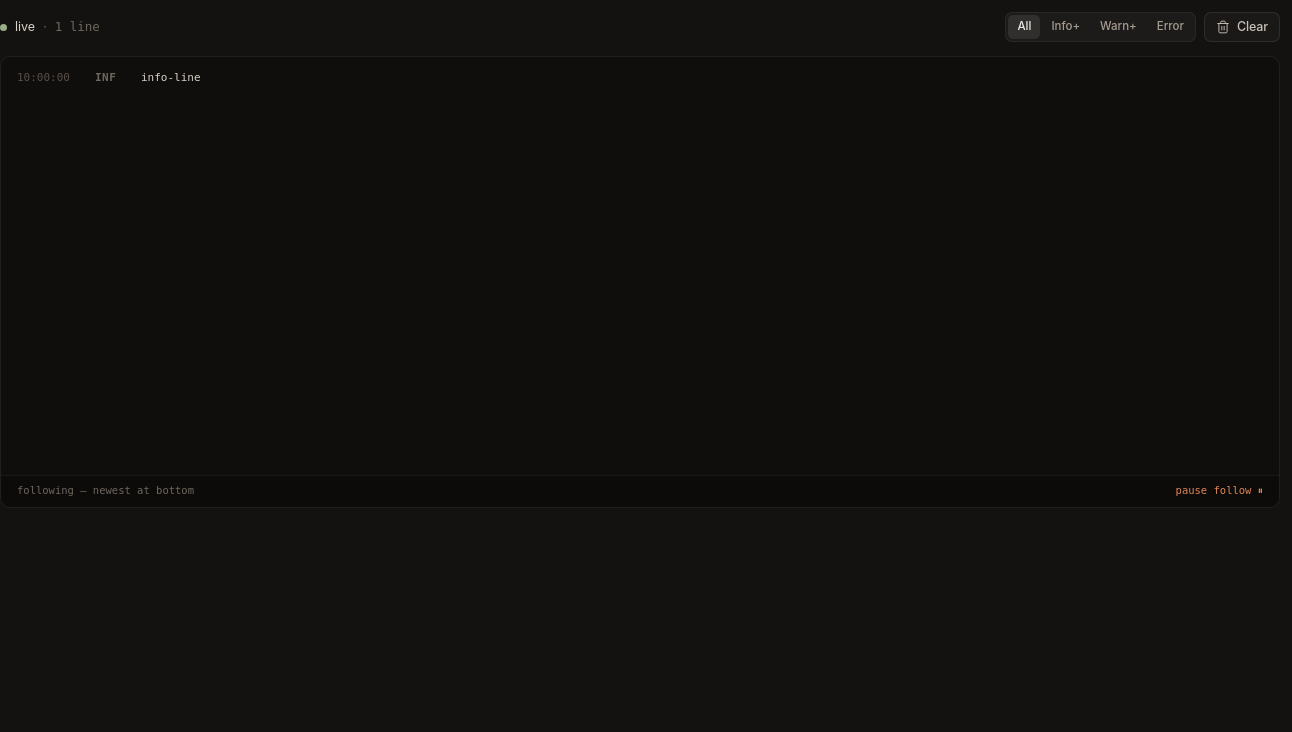
Scenario: LogsTab › shows a no-match note when the filter excludes all lines
Step 1. Click the tab "Error" → [1170, 27], box [1148,15,1193,39]
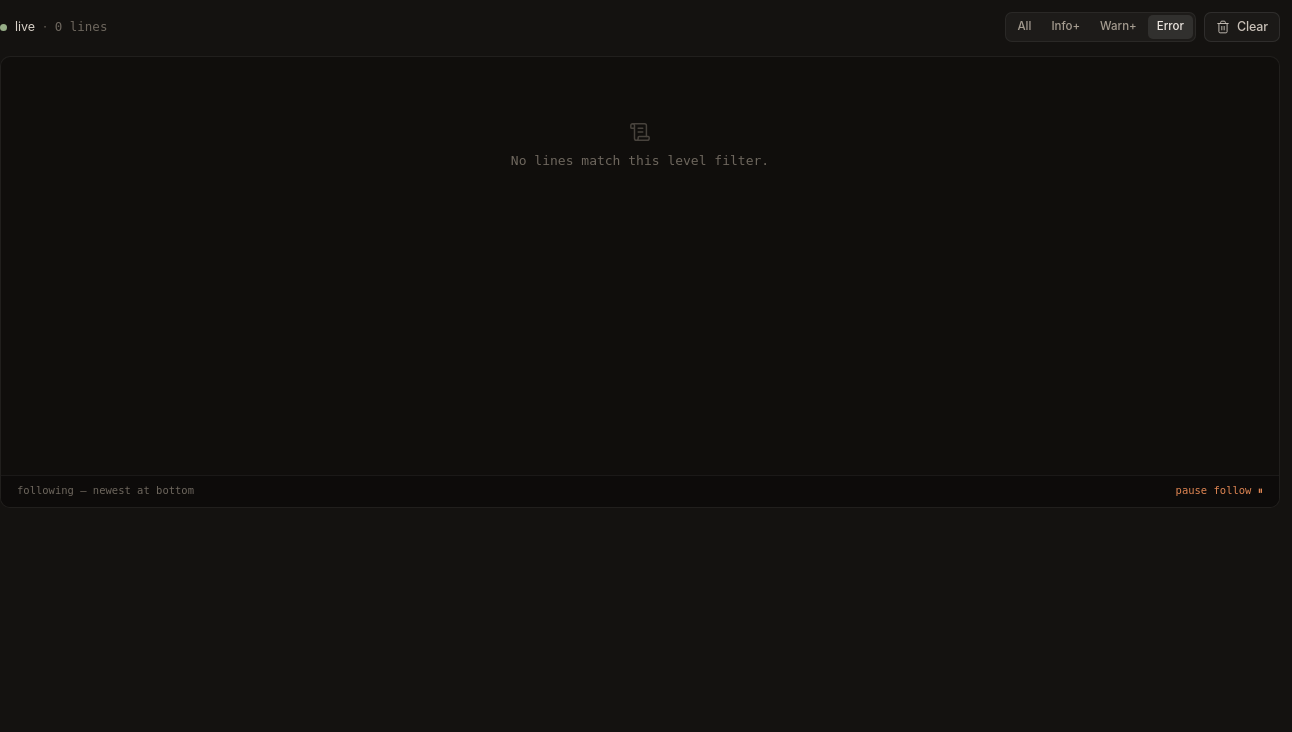
Result: the text "No lines match this level filter." is shown at [511,151,769,170]
